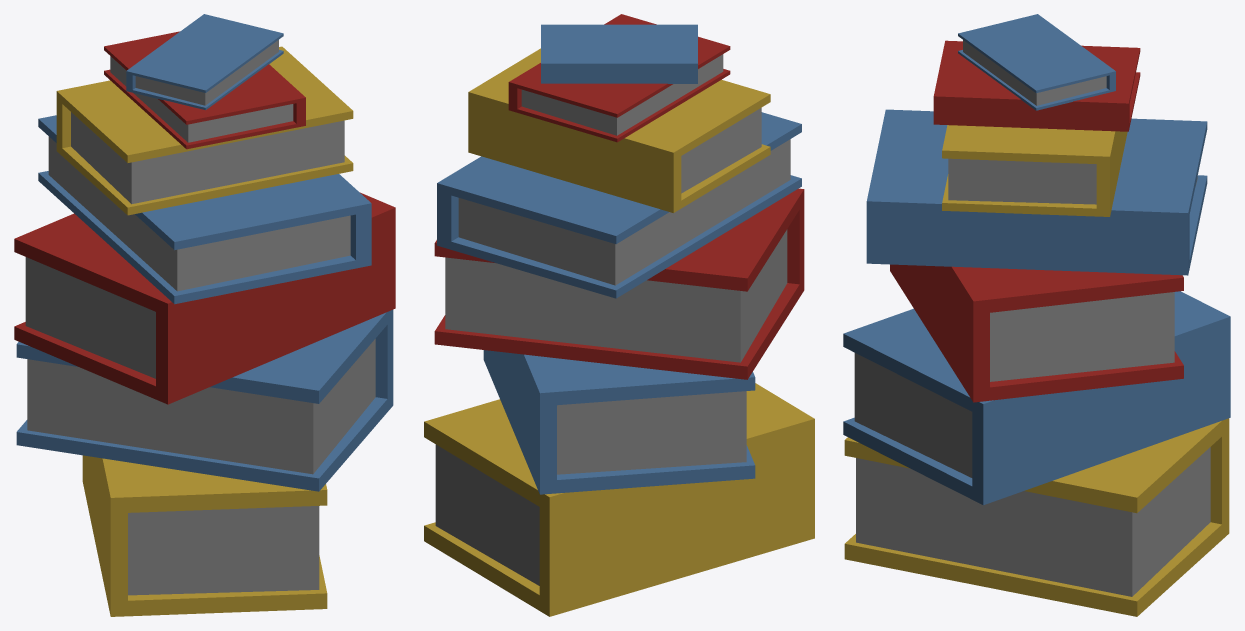
Rendered from BookStack.FBX.
3 renders of one model, left to right at view 1: azimuth 30°, elevation 25°; view 2: azimuth 150°, elevation 25°; view 3: azimuth 270°, elevation 25°, orthographic.
Visible parts, largest first — view 1: Box029; view 2: Box029; view 3: Box029.
Boxes of the visible parts, left/top/right/bottom form: Box029: left=14, top=14, right=395, bottom=616; Box029: left=424, top=14, right=814, bottom=616; Box029: left=843, top=14, right=1230, bottom=616.
Size of the model in its own units: 55.17 by 80.32 by 57.07.
